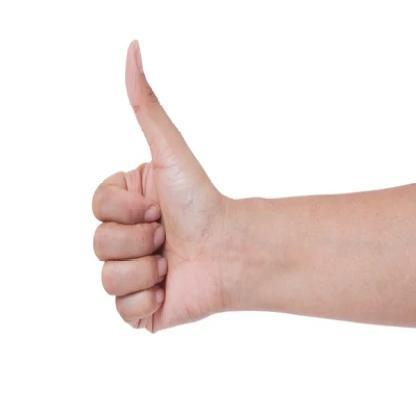thumb_up: (90, 36, 226, 336)
